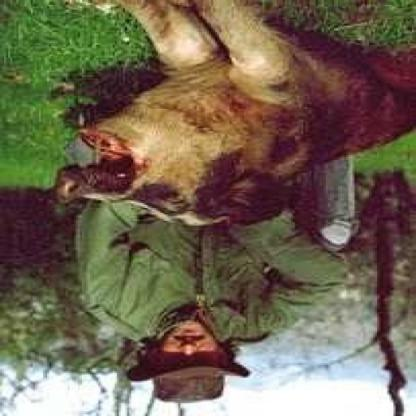boar: (54, 38, 406, 241)
